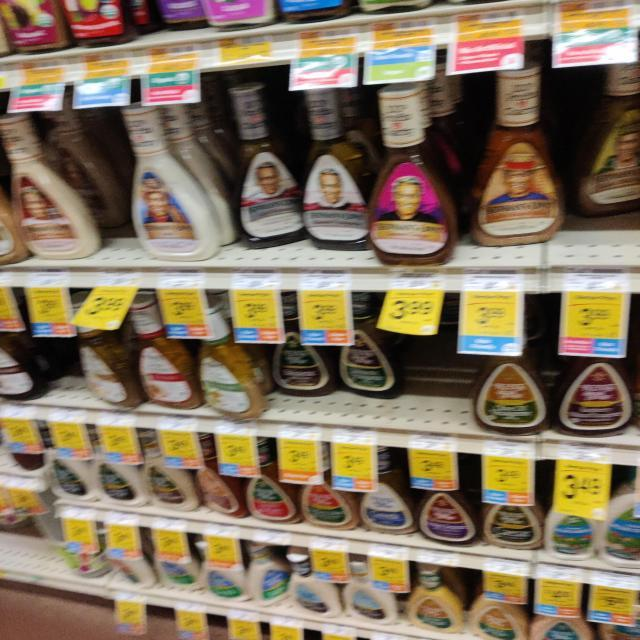Sauce: (467, 68, 579, 246), (360, 82, 460, 276), (120, 104, 226, 270), (0, 107, 112, 263), (220, 78, 314, 254), (289, 80, 383, 248), (466, 308, 554, 439), (551, 317, 640, 445), (190, 302, 276, 424), (127, 288, 207, 418), (328, 304, 407, 406), (298, 442, 368, 538), (79, 418, 147, 514), (481, 455, 541, 553), (416, 467, 482, 551), (185, 436, 249, 522), (246, 442, 302, 529), (143, 437, 198, 513)
